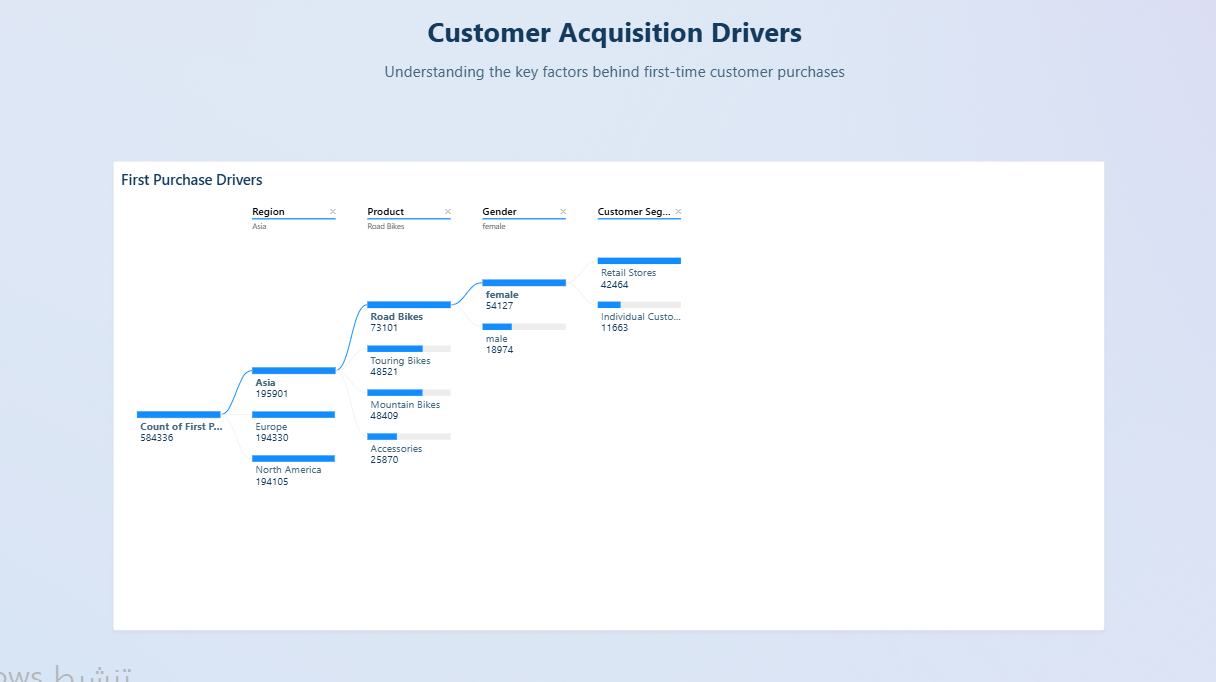

The page's visual inventory and layout, read from the dashboard file:
{"tool":"powerbi","page":{"name":"Customer Acquisition","canvas":[1920,1080],"ordinal":1},"visuals":[{"type":"decompositionTreeVisual","title":"First Purchase Drivers","fields":{"Analyze":["CountNonNull(Sales.First Purchase Date)"],"ExplainBy":["Sales.Region","Sales.Product","Sales.Gender","Sales.Customer Segments"]},"box":[182.9,262.6,1549.7,733.8],"z":0},{"type":"textbox","box":[175.8,30.5,1582.5,173.5],"z":1000}]}

Visuals, with their boxes in screenshot pixels (x1, y1, x2, y2), scaled from the page's 1920x1080 canvas onto the 1216x682 screenshot:
"First Purchase Drivers" decompositionTreeVisual: select_region(116, 166, 1097, 629)
textbox: select_region(111, 19, 1114, 129)
